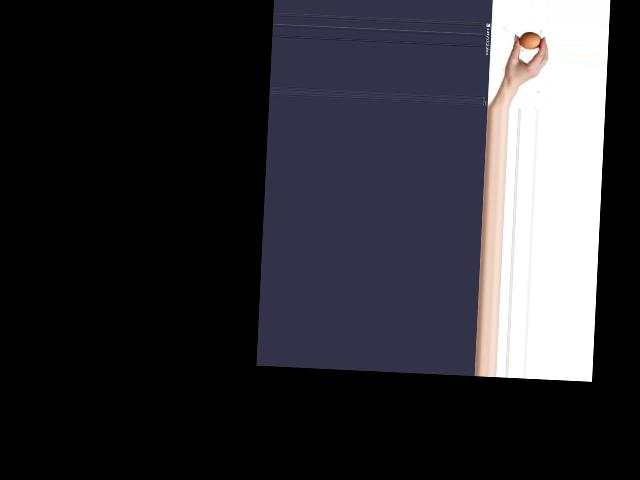egg: (518, 31, 541, 50)
